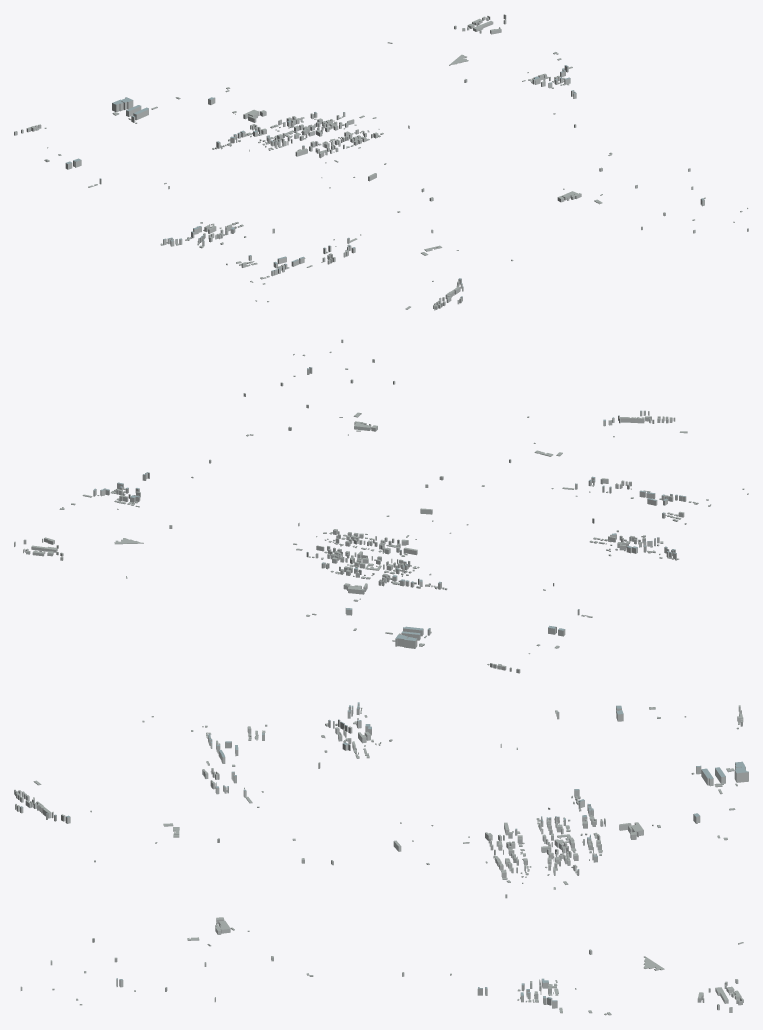
Rendered from far.glb.
3 renders of one model, top to bottom at view 1: azimuth 30°, elevation 25°; view 2: azimuth 150°, elevation 25°; view 3: azimuth 270°, elevation 25°, orthographic. The views are drawn at different scales.
Bounding box in the file's own units: 2098 × 30.5 × 2116.
